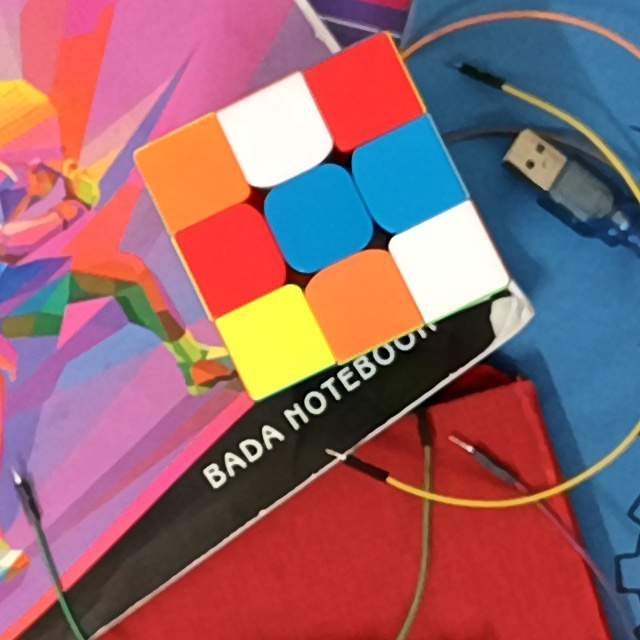tile: (372, 146, 442, 211), (328, 271, 397, 335), (200, 224, 268, 288), (284, 187, 352, 249), (241, 106, 307, 167), (243, 311, 309, 372), (331, 61, 398, 121), (417, 230, 482, 291), (164, 141, 223, 204)
